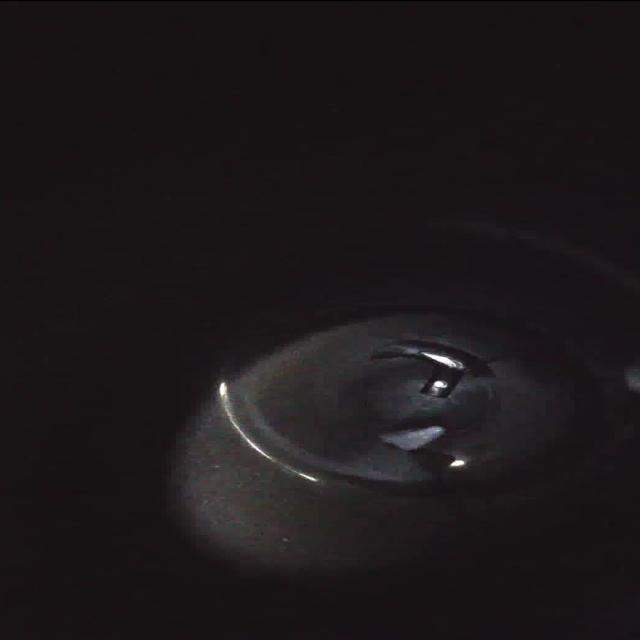impurity: (376, 419, 446, 453)
